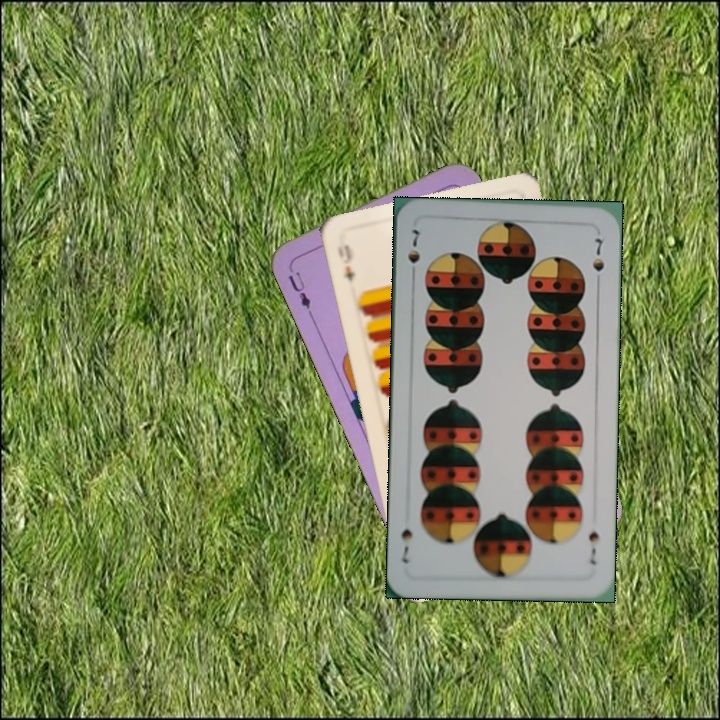E9: (340, 240, 358, 284)
EU: (283, 260, 315, 318)
S7: (404, 223, 422, 282), (584, 527, 601, 567)
